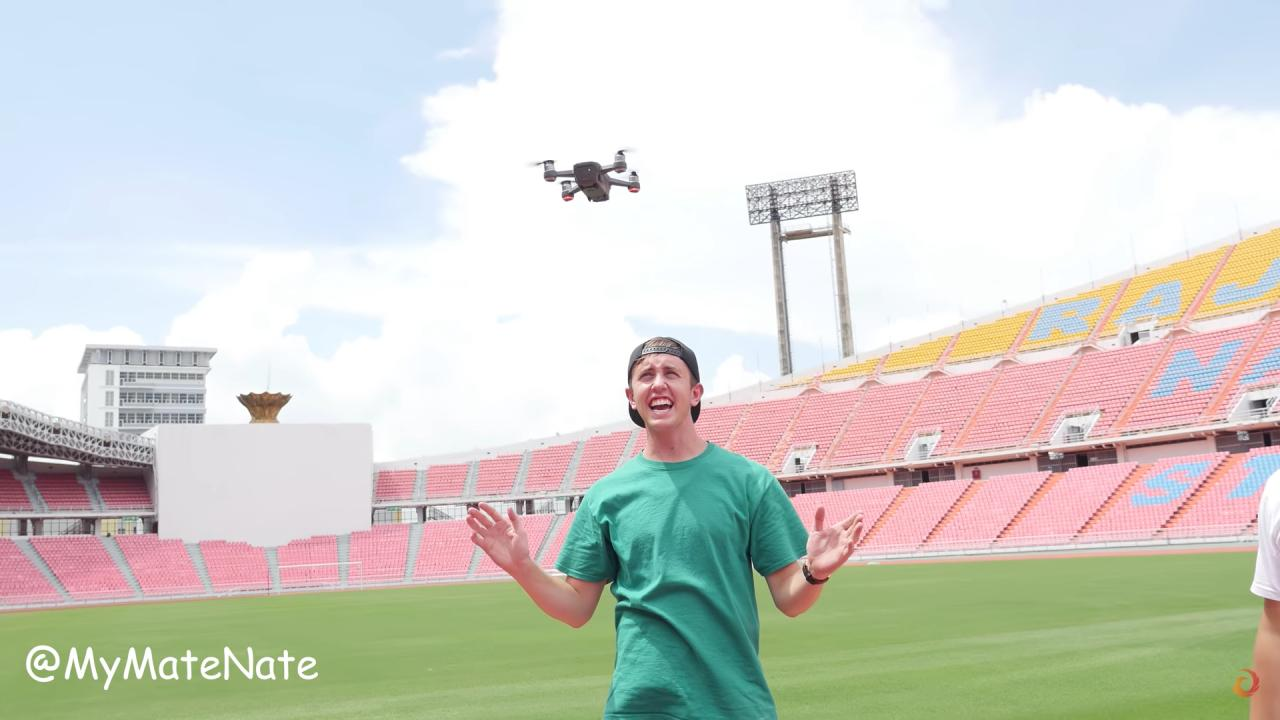Drone: (521, 136, 658, 217)
